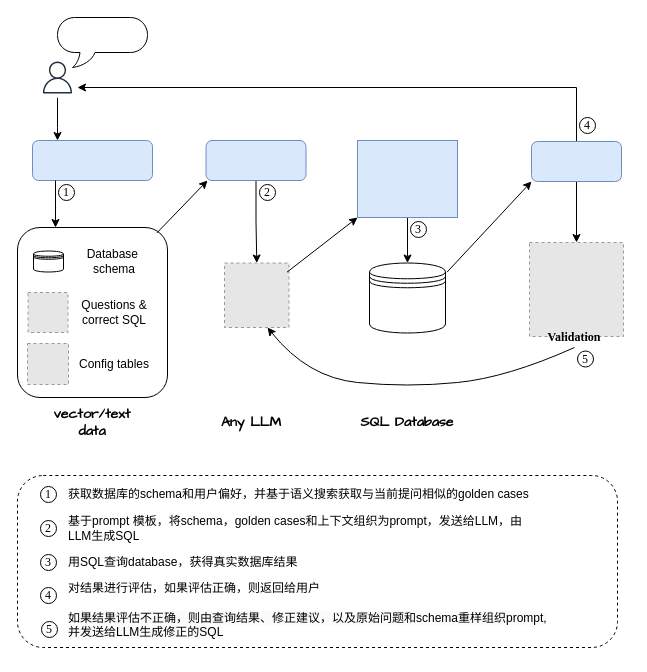
This 647x672 diagram has some shape labels left out. Grey dashed boxes stand in for pictures. Each missing label, with the centre of its shape:
"Prompt" belongs at pixel 255 160.
"Question" belongs at pixel 102 42.
"Results" belongs at pixel 576 161.
"Retrieval" belongs at pixel 92 160.
"SQL Query" belongs at pixel 407 179.
